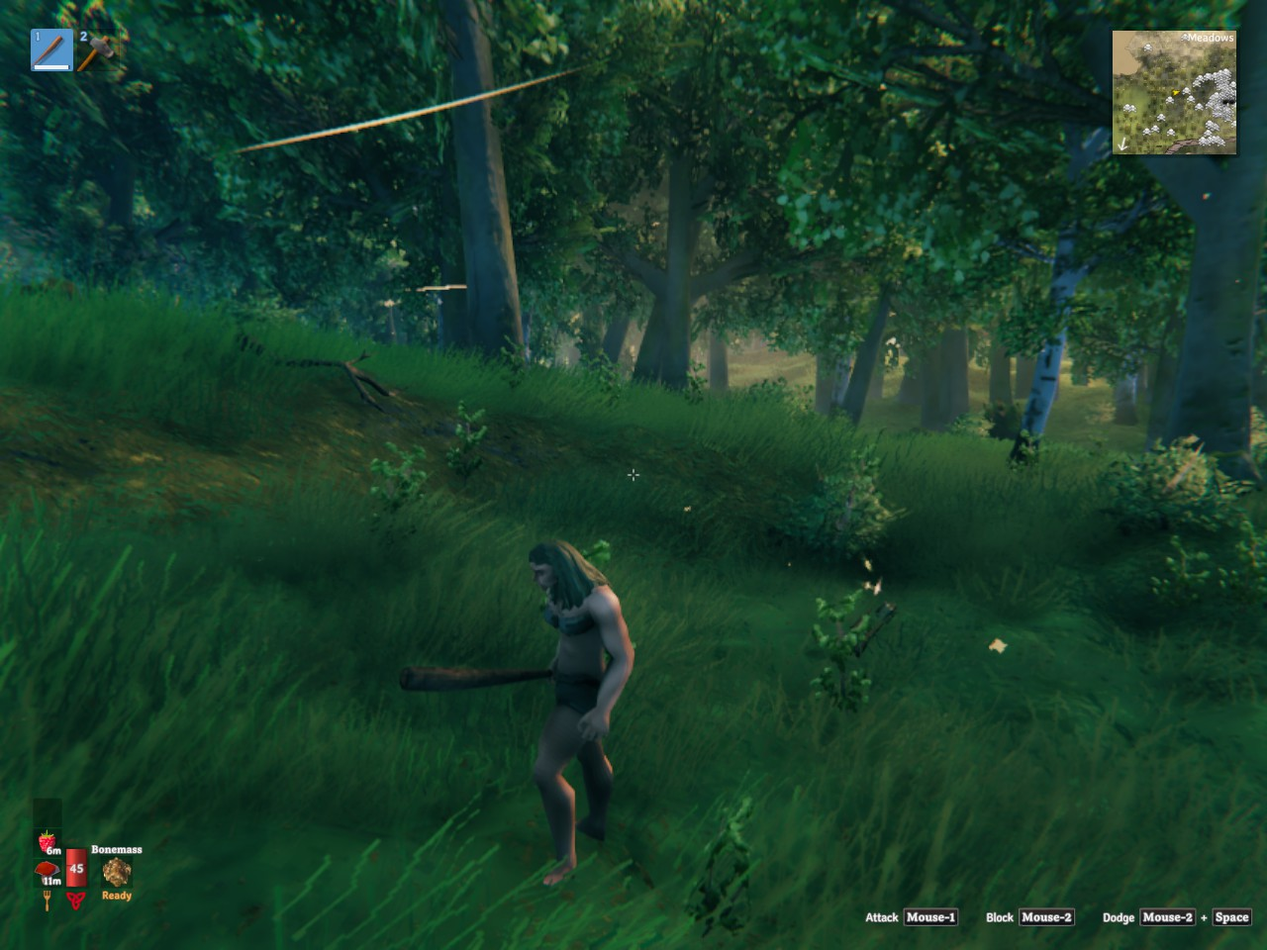Branch: (272, 351, 394, 411), (237, 333, 263, 353)
Food Indicator: (36, 797, 63, 891)
Health Bar: (63, 820, 90, 891)
Hotbar: (24, 21, 195, 80)
